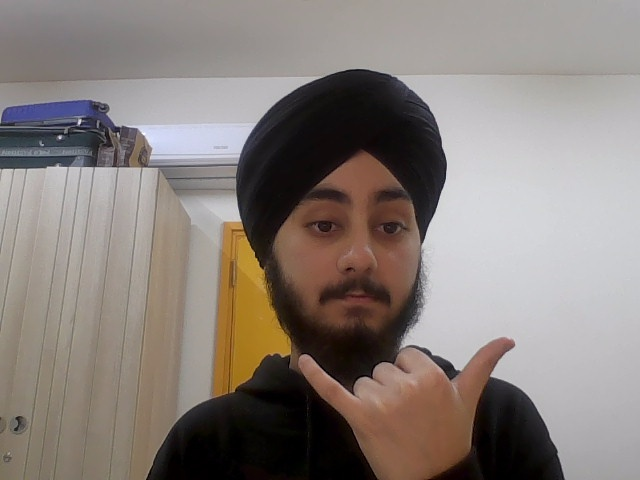Wrong: (292, 331, 520, 480)
